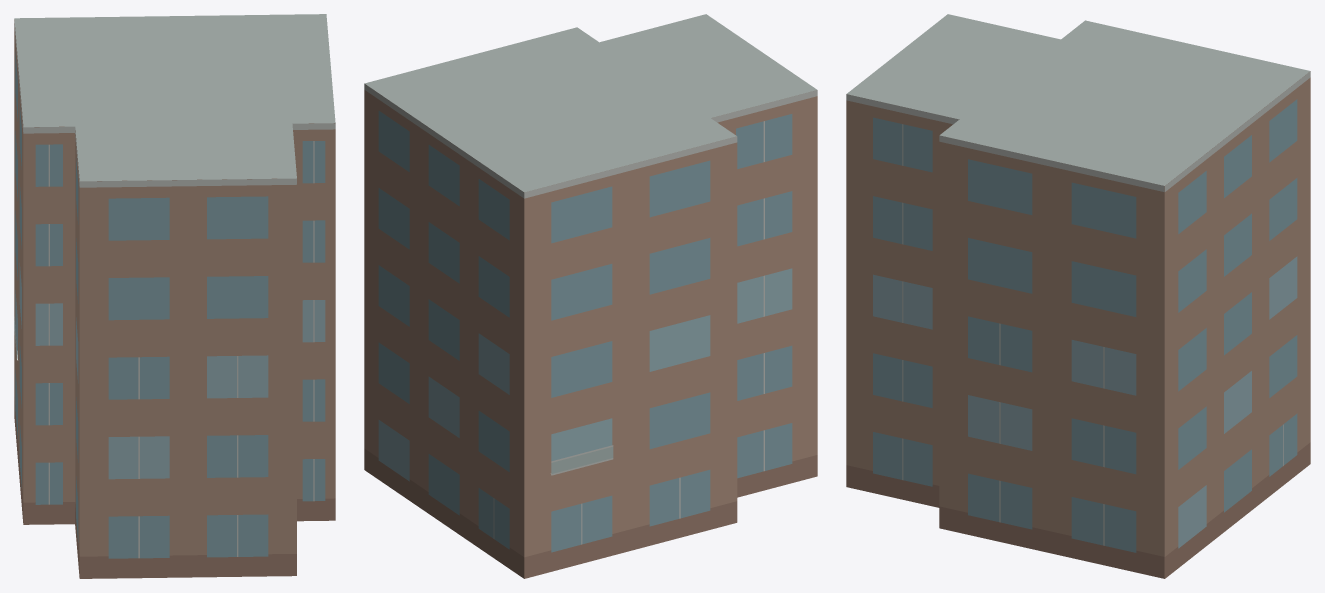
File: survey-upis-33007945.glb
3 views of the same model, side by side, from view 1: azimuth 30°, elevation 25°; view 2: azimuth 150°, elevation 25°; view 3: azimuth 270°, elevation 25° (orthographic). The views are drawn at different scales.
Parts seen in each view (by area): view 1: survey-upis-33007945.tmp; view 2: survey-upis-33007945.tmp; view 3: survey-upis-33007945.tmp.
Part boxes in pixels (left/top/right/bottom): survey-upis-33007945.tmp: left=14, top=14, right=335, bottom=578; survey-upis-33007945.tmp: left=364, top=14, right=817, bottom=578; survey-upis-33007945.tmp: left=846, top=14, right=1310, bottom=578.
Size of the model in its own units: 14.32 by 15.25 by 16.34.
